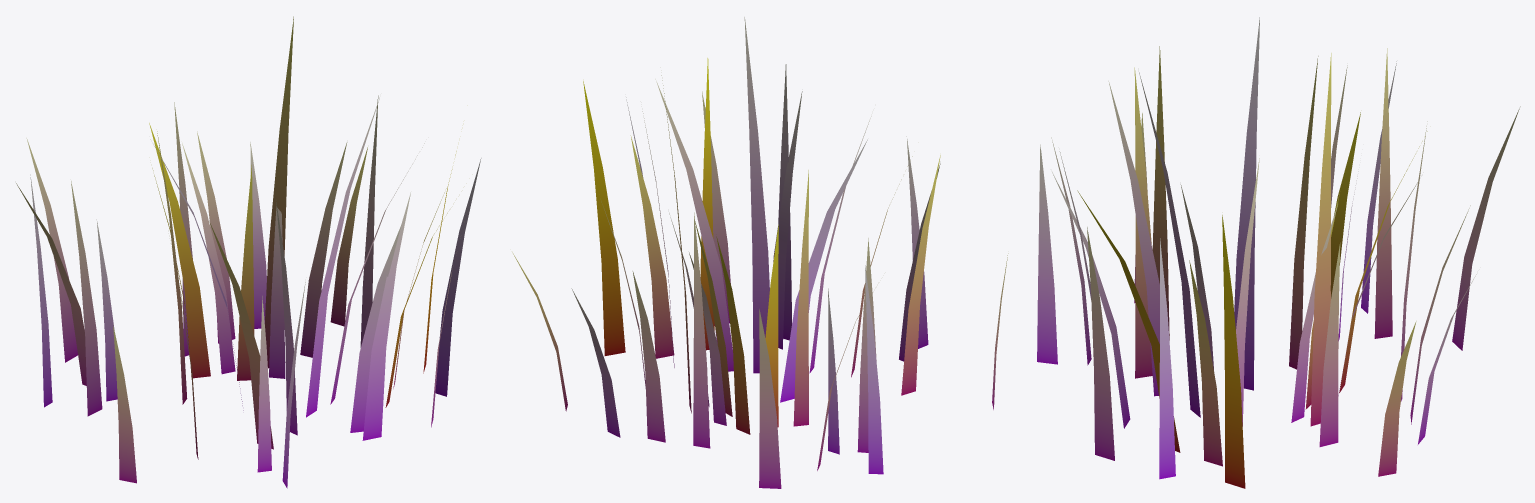
File: grass_clump_b.glb
3 renders of one model, left to right at view 1: azimuth 30°, elevation 25°; view 2: azimuth 150°, elevation 25°; view 3: azimuth 270°, elevation 25°, orthographic. The views are drawn at different scales.
Visible parts, largest first — view 1: grass_clump_b; view 2: grass_clump_b; view 3: grass_clump_b.
Part boxes in pixels (x1,y1,x2,y2): grass_clump_b: (16,16,481,488); grass_clump_b: (512,17,1008,488); grass_clump_b: (1037,17,1520,488).
Size of the model in its own units: 0.192 by 0.162 by 0.1831.
